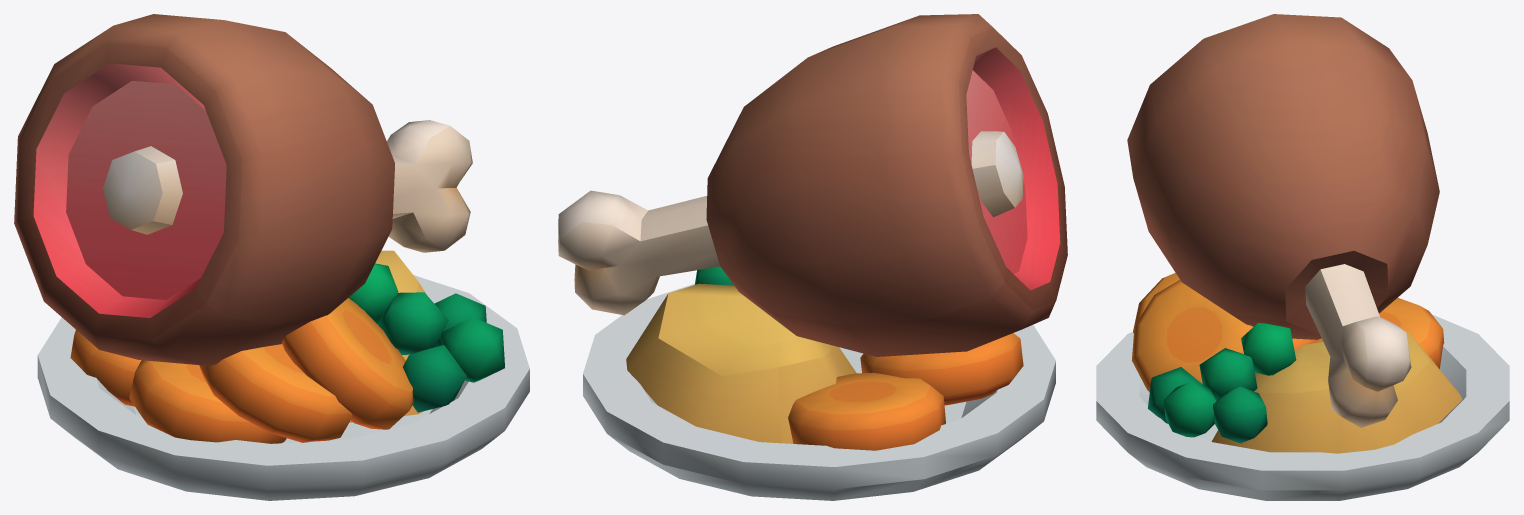
Rendered from middag.glb.
3 renders of one model, left to right at view 1: azimuth 30°, elevation 25°; view 2: azimuth 150°, elevation 25°; view 3: azimuth 270°, elevation 25°, orthographic. The views are drawn at different scales.
Visible parts, largest first — view 1: food_dinner; view 2: food_dinner; view 3: food_dinner.
Part boxes in pixels (left/top/right/bottom): food_dinner: left=14, top=14, right=529, bottom=500; food_dinner: left=558, top=14, right=1067, bottom=500; food_dinner: left=1096, top=14, right=1509, bottom=500.
Bounding box in the file's own units: 1.04 × 0.9079 × 0.9501.
Materials: 1 (1 with a texture image).
